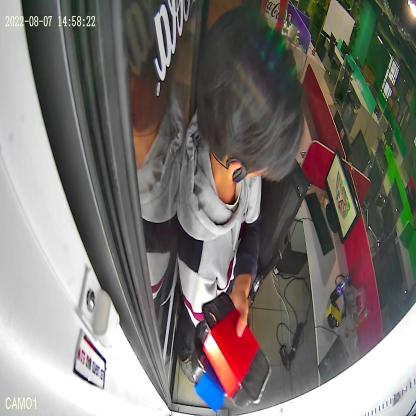blue: (191, 320, 230, 413)
red: (200, 291, 272, 409)
